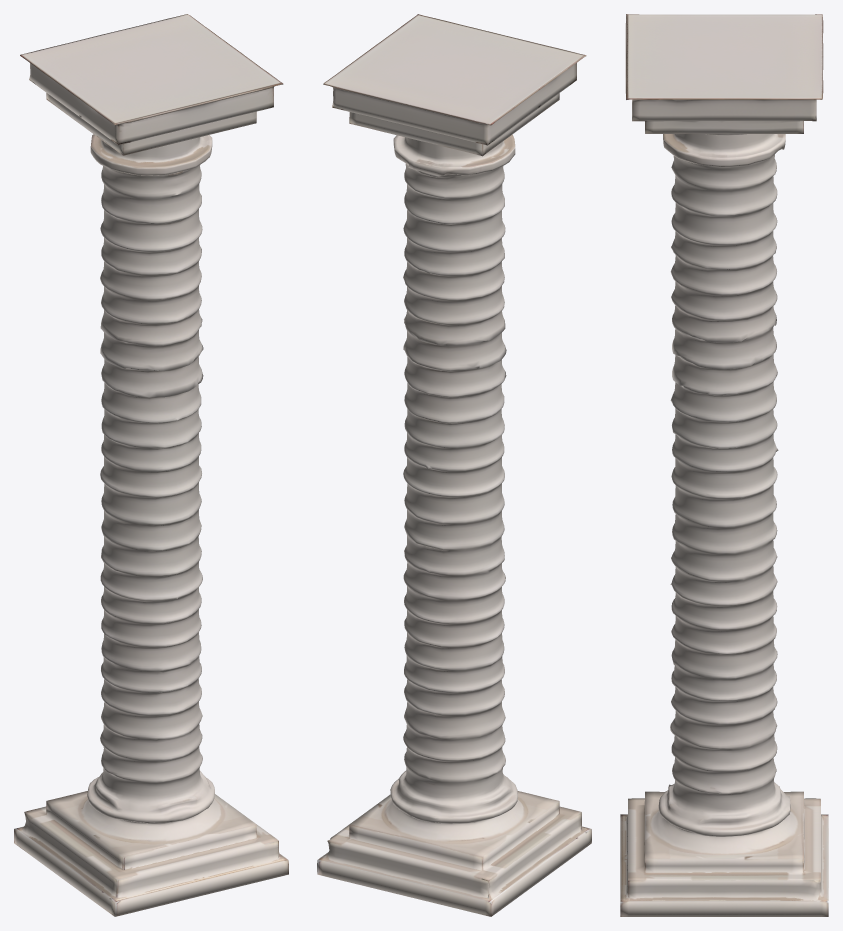
Rendered from base_basic_pbr.glb.
3 renders of one model, left to right at view 1: azimuth 30°, elevation 25°; view 2: azimuth 150°, elevation 25°; view 3: azimuth 270°, elevation 25°, orthographic. The views are drawn at different scales.
Visible parts, largest first — view 1: model; view 2: model; view 3: model.
Boxes of the visible parts, x1,y1,x2,y2 form: model: (14,14,288,916); model: (317,14,591,916); model: (620,14,828,916).
Bounding box in the file's own units: 0.4595 × 2 × 0.4605.
Materials: 1 (1 with a texture image).
